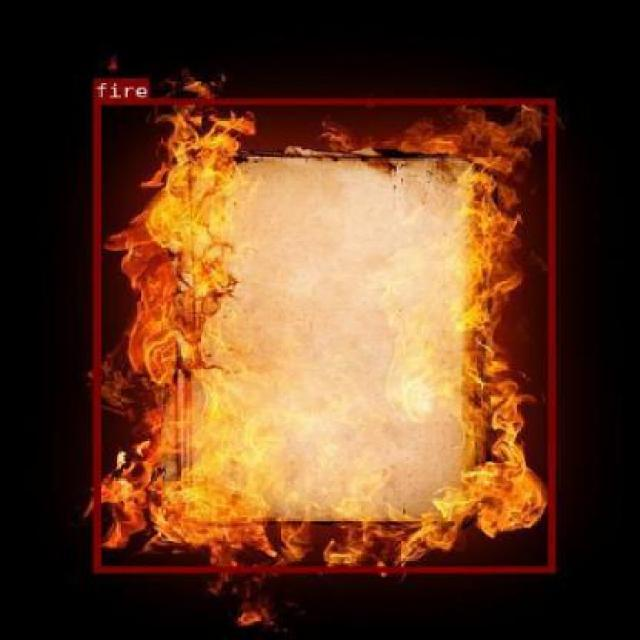Fire: (92, 98, 554, 572)
